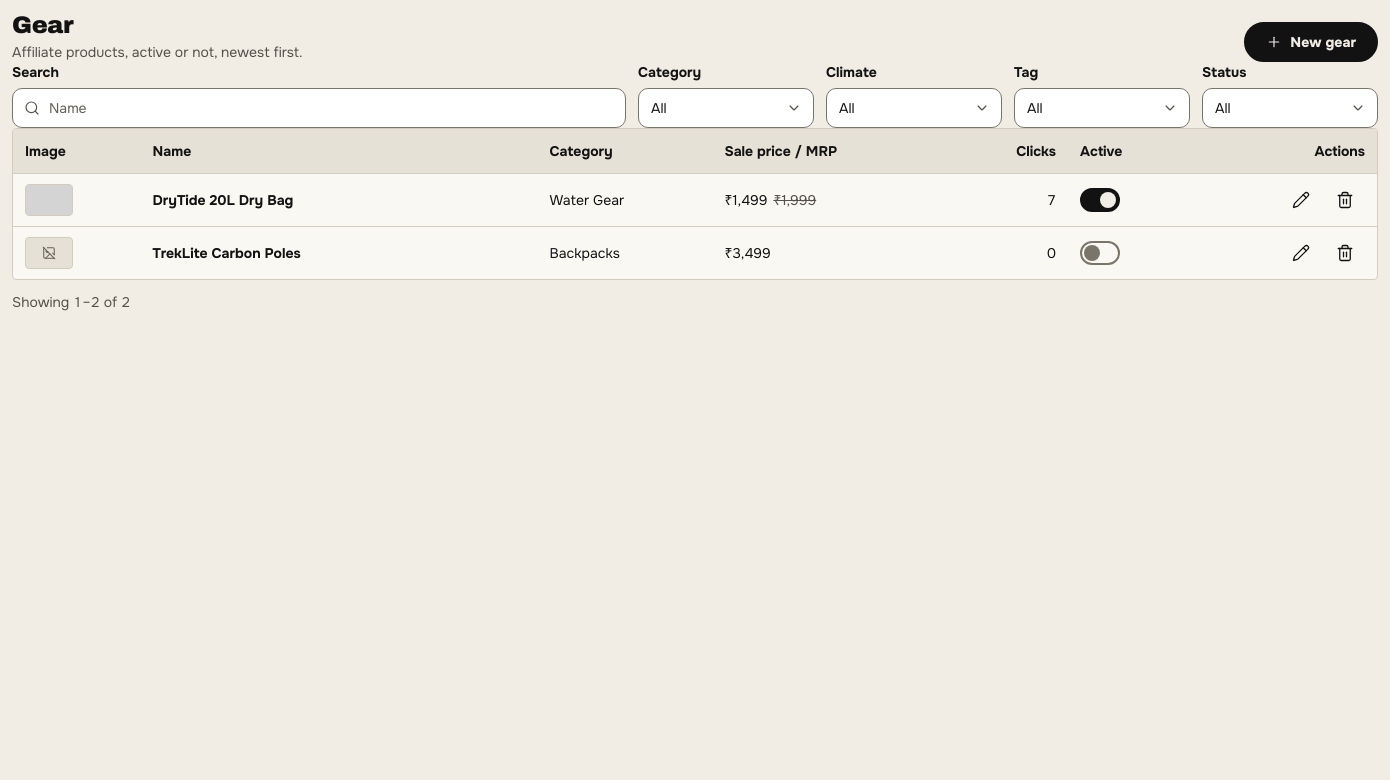
Scenario: GearPage › says why a status change failed
Check: the text "DryTide 20L Dry Bag" is shown, box 141,174 -> 538,227
Click the switch named "Active: DryTide 20L Dry Bag".
click(1100, 200)  # box 1080,180 -> 1120,220
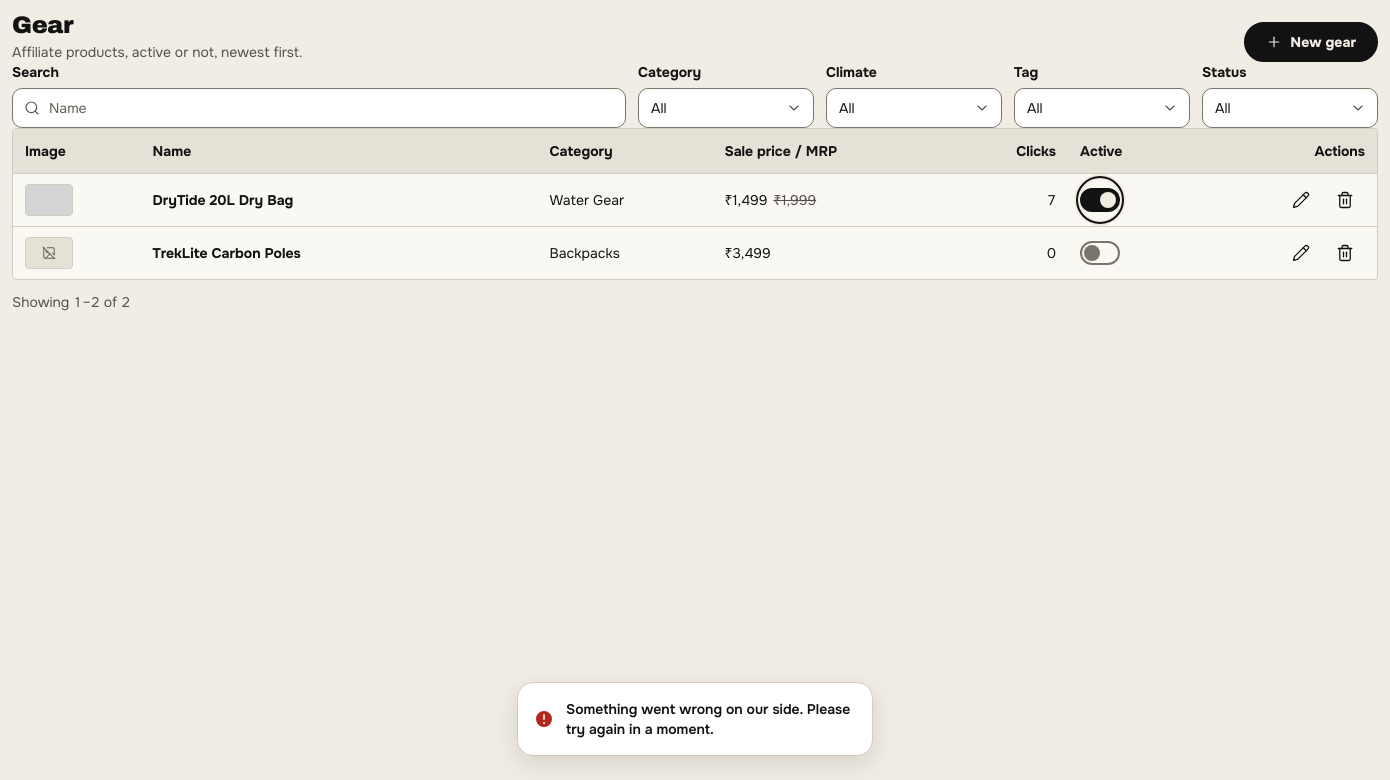
Check: the text "Something went wrong on our side. Please try again in a moment." is shown, box 566,699 -> 856,739
